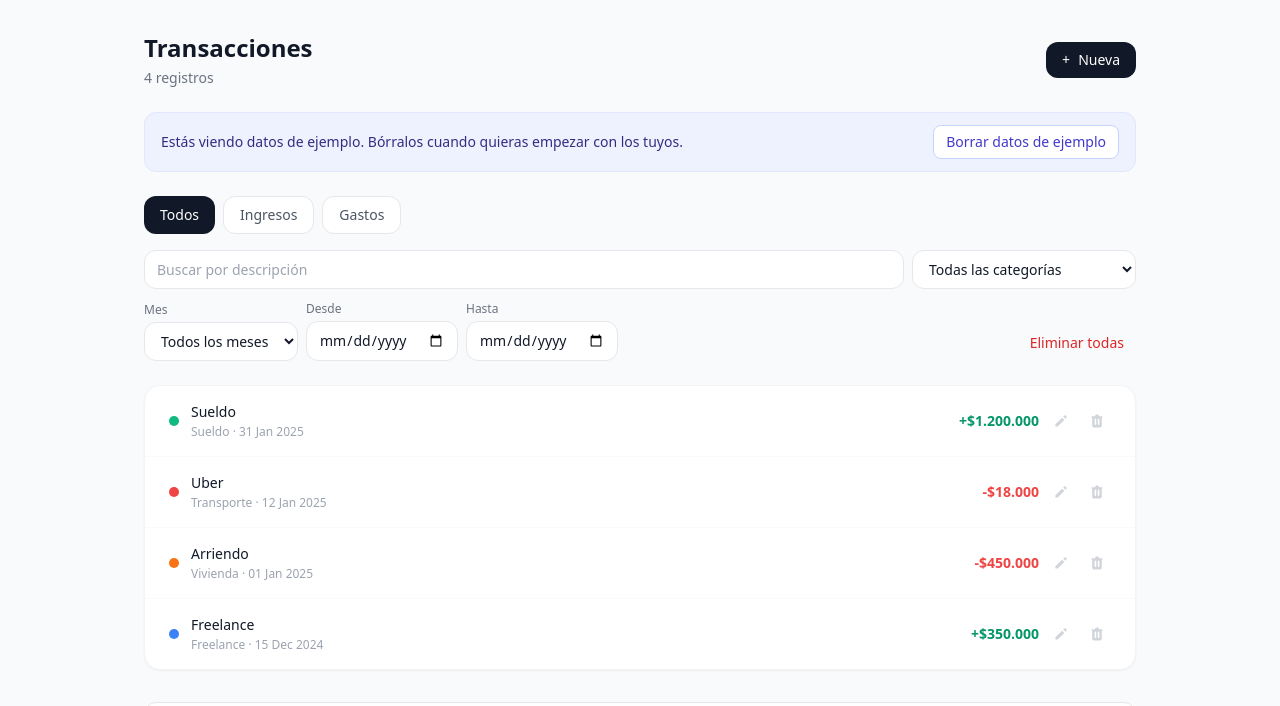
Test case: TransactionsComponent › date range and pagination › should clear every filter at once
Type "2024-12-31" into the date field with id "date-to". click: (542, 341)
box: [466,321,618,361]
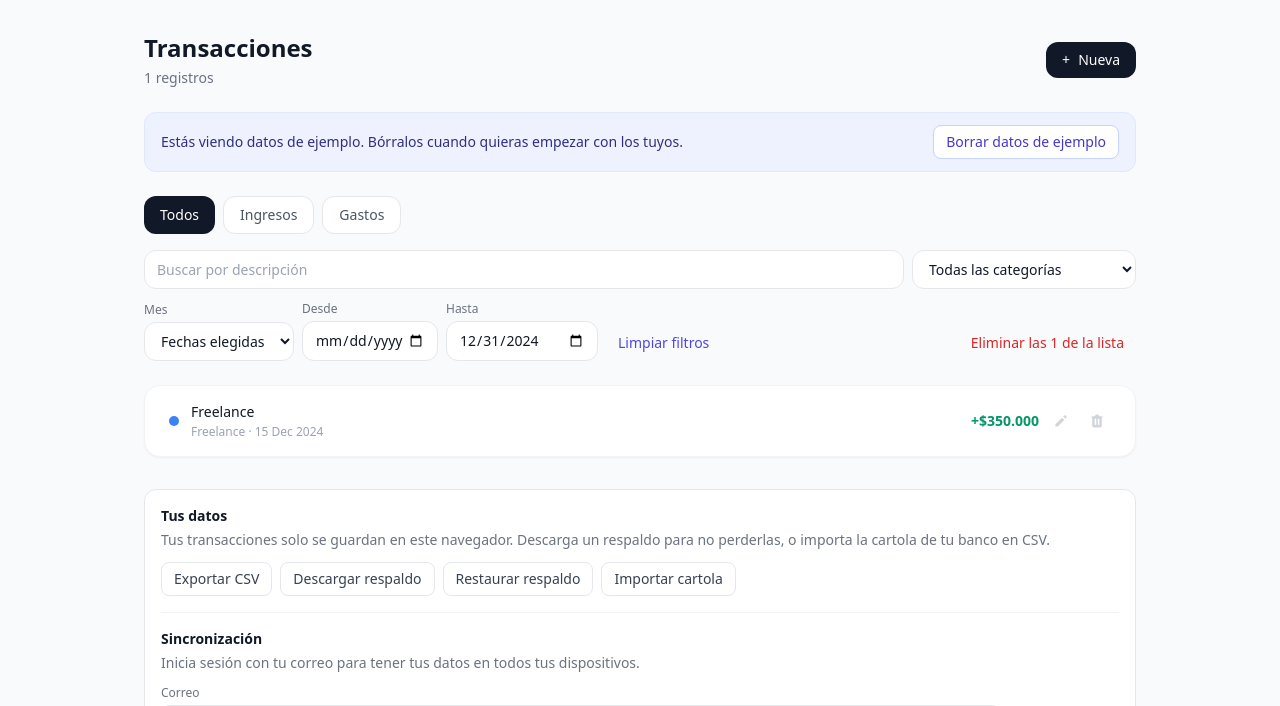
Click the button "Limpiar filtros". click: (664, 343)
box: [606,325,721,361]
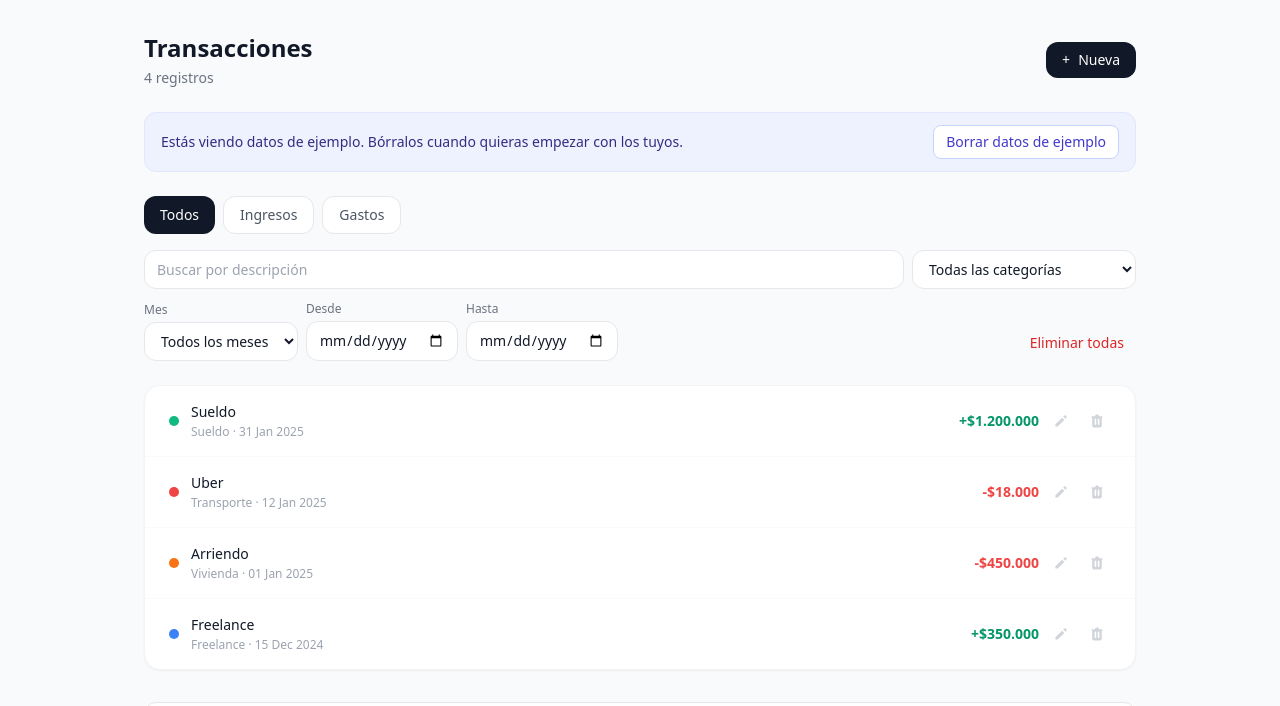
Expected: the date field with id "date-to" is empty, [466,321,618,361]
